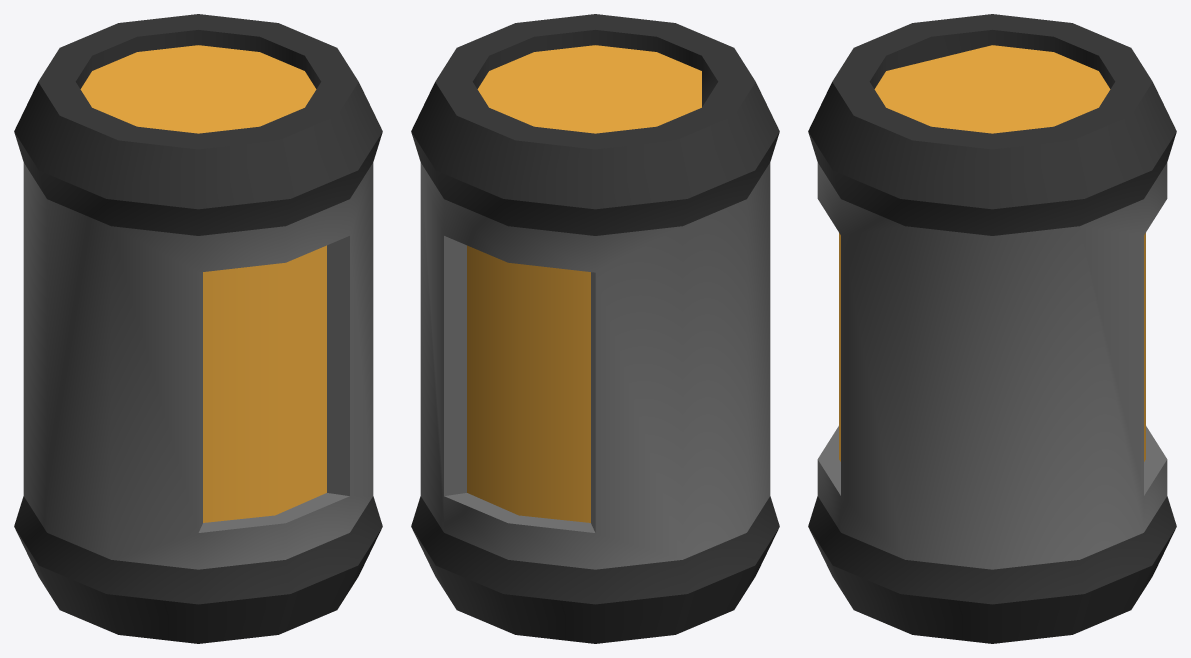
The model's file is cc0-pickup-jar-lod1.glb.
The picture shows the model from 3 angles, left to right: view 1: azimuth 30°, elevation 25°; view 2: azimuth 150°, elevation 25°; view 3: azimuth 270°, elevation 25°; orthographic projection.
Visible parts, largest first — view 1: part_0; view 2: part_0; view 3: part_0.
Part boxes in pixels (x1,y1,x2,y2): part_0: [14, 14, 382, 643]; part_0: [411, 14, 779, 643]; part_0: [808, 14, 1176, 643].
Bounding box in the file's own units: 0.6919 × 1.02 × 0.6919.
1 material, 1 textured.
